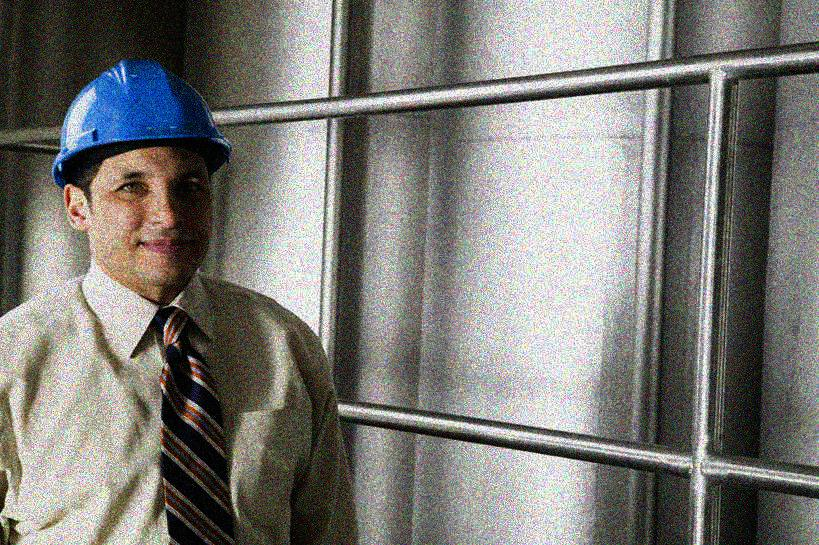helmet: (50, 55, 232, 294)
